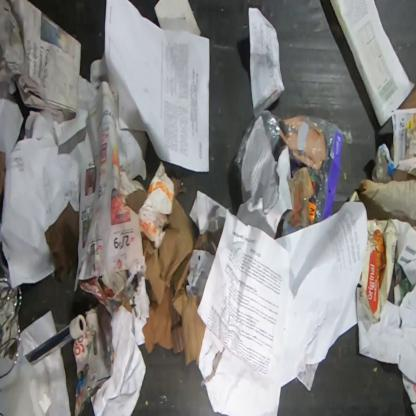cardboard: (141, 176, 224, 366), (358, 218, 399, 326)
metal: (24, 313, 87, 368), (0, 277, 22, 381)
soft_plastic: (235, 103, 353, 226)
